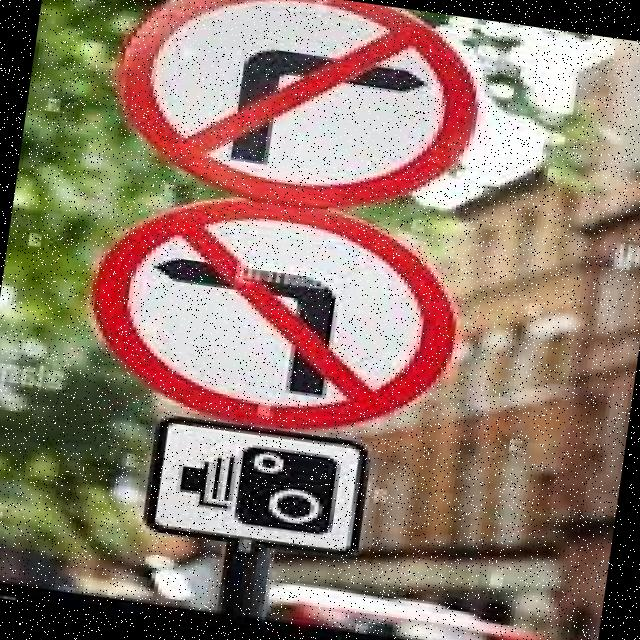do_not_turn_right: (78, 172, 474, 450)
